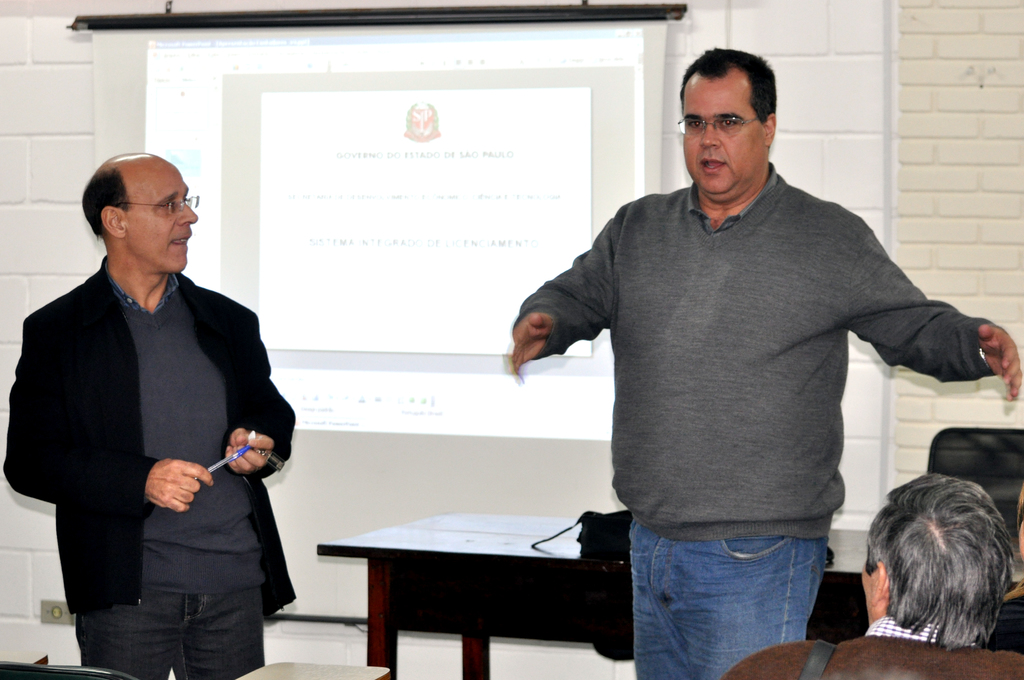Human-face: (689, 80, 765, 199), (129, 161, 196, 269)
